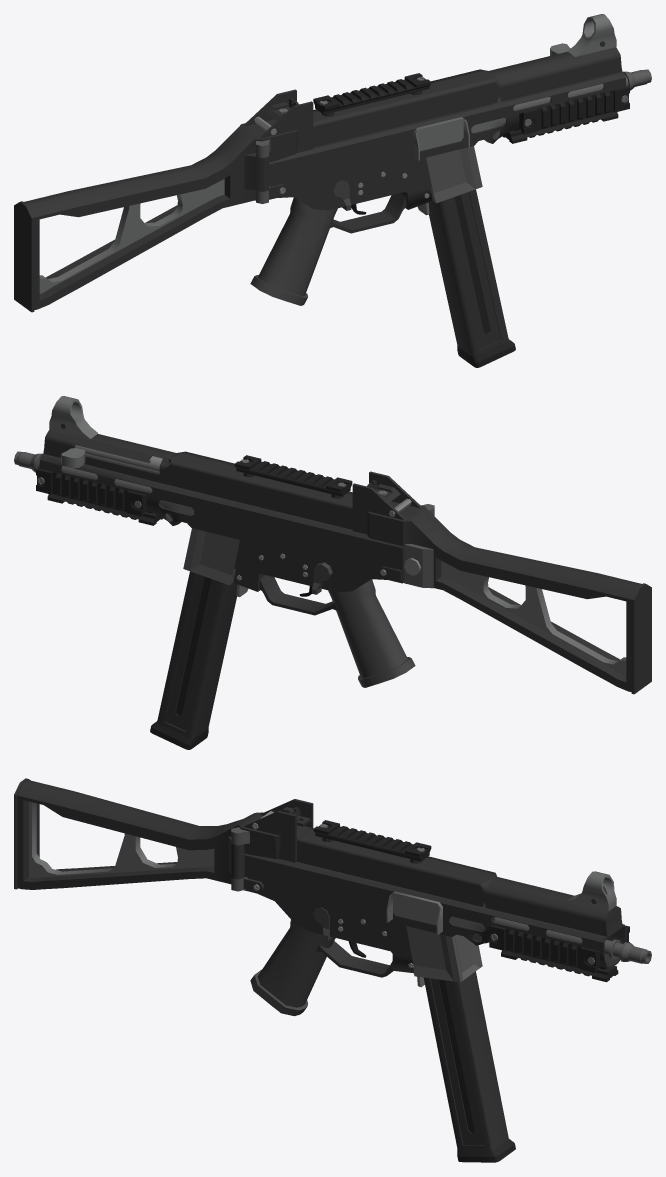
The model's file is UMP45_Mesh.fbx.
3 renders of one model, top to bottom at view 1: azimuth 30°, elevation 25°; view 2: azimuth 150°, elevation 25°; view 3: azimuth 330°, elevation 25°, orthographic.
Visible parts, largest first — view 1: UMP45; view 2: UMP45; view 3: UMP45.
Boxes of the visible parts, box(x1,y1,x2,y2) form: UMP45: box(14, 14, 651, 367); UMP45: box(14, 396, 651, 749); UMP45: box(14, 778, 651, 1162).
Size of the model in its own units: 0.5634 by 0.2701 by 0.0592.
